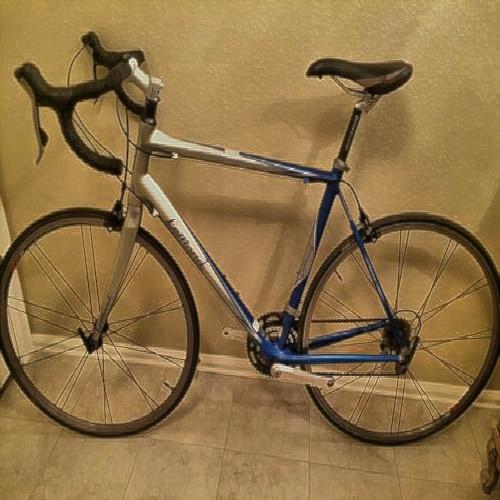bicycle: (18, 52, 483, 445)
